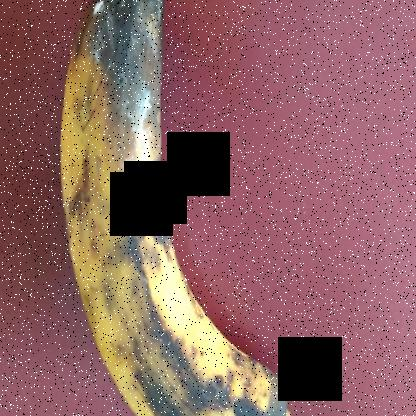rotten: (51, 1, 313, 415)
